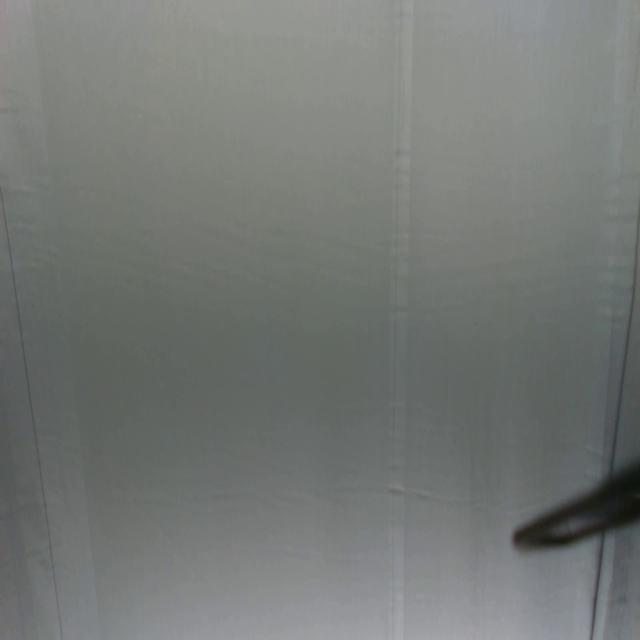crease: (0, 0, 102, 636), (387, 0, 414, 638), (607, 197, 640, 475), (584, 535, 608, 640)
